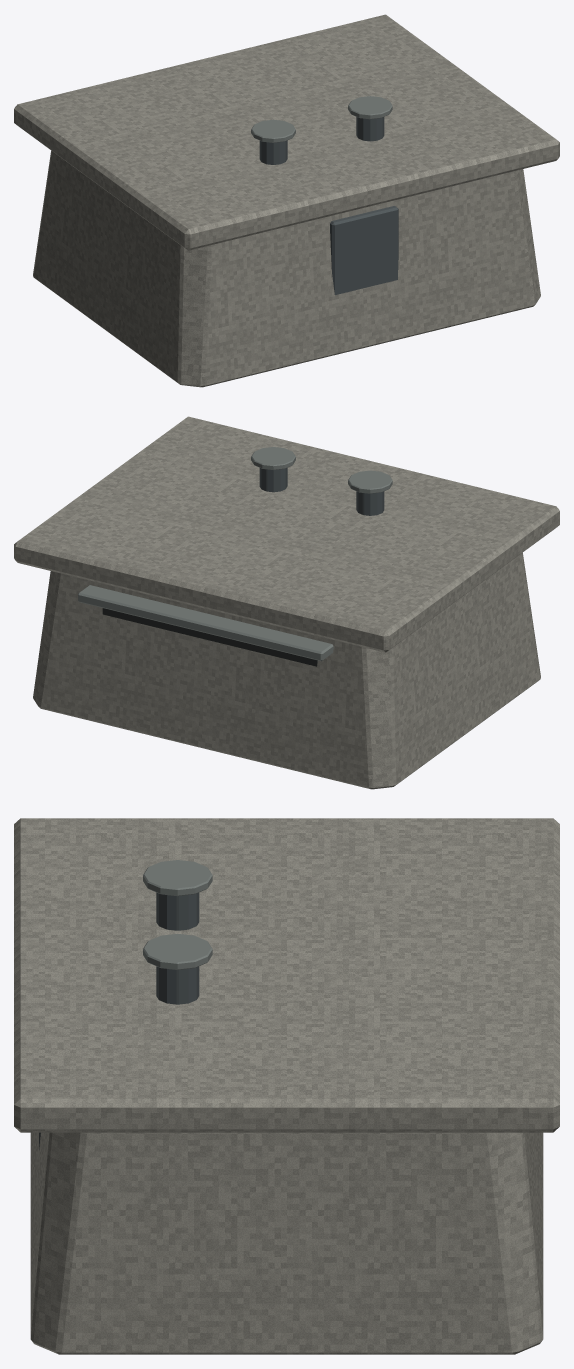
3 renders of one model, top to bottom at view 1: azimuth 30°, elevation 25°; view 2: azimuth 150°, elevation 25°; view 3: azimuth 270°, elevation 25°, orthographic. The views are drawn at different scales.
Parts seen in each view (by area): view 1: ST2-B01_Mesh; view 2: ST2-B01_Mesh; view 3: ST2-B01_Mesh.
Part boxes in pixels (x1,y1,x2,y2): ST2-B01_Mesh: (14,14,559,387); ST2-B01_Mesh: (14,416,559,789); ST2-B01_Mesh: (14,818,559,1354).
Size of the model in its own units: 6.2 by 3.1 by 5.
4 materials, 1 textured.
